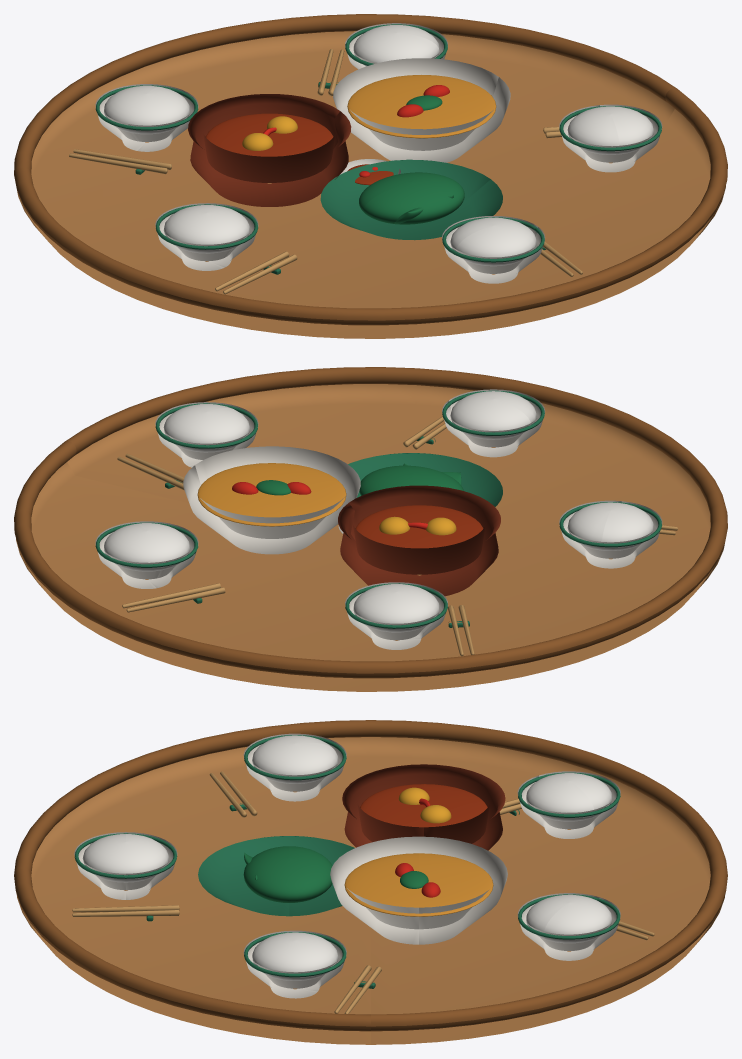
File: onboarding-mam-com.glb
The picture shows the model from 3 angles, top to bottom: view 1: azimuth 30°, elevation 25°; view 2: azimuth 150°, elevation 25°; view 3: azimuth 270°, elevation 25°; orthographic projection.
Parts seen in each view (by area): view 1: MamCom_Tray, Dish_Claypot, Dish_Soup, Dish_StirFry, Place_4, Place_5, Place_1, Place_2, Place_3, Dish_Dip; view 2: MamCom_Tray, Dish_Soup, Dish_Claypot, Place_3, Place_4, Place_1, Place_2, Place_5, Dish_StirFry; view 3: MamCom_Tray, Dish_Soup, Dish_Claypot, Dish_StirFry, Place_1, Place_2, Place_5, Place_3, Place_4.
Part boxes in pixels (x1,y1,x2,y2): MamCom_Tray: (14,14,727,338); Dish_Claypot: (188,94,351,206); Dish_Soup: (333,58,510,162); Dish_StirFry: (320,159,502,240); Place_4: (69,84,198,174); Place_5: (155,203,297,294); Place_1: (442,216,582,283); Place_2: (543,104,662,172); Place_3: (317,23,447,96); Dish_Dip: (340,159,400,185); MamCom_Tray: (14,367,727,691); Dish_Soup: (183,446,360,554); Dish_Claypot: (338,485,500,596); Place_3: (95,521,225,612); Place_4: (345,582,474,656); Place_1: (403,389,545,457); Place_2: (117,402,258,490); Place_5: (559,500,677,568); Dish_StirFry: (348,453,502,506); MamCom_Tray: (14,720,727,1044); Dish_Soup: (330,836,507,944); Dish_Claypot: (342,764,505,850); Dish_StirFry: (198,836,354,916); Place_1: (72,832,179,921); Place_2: (243,930,381,1013); Place_5: (209,733,346,817); Place_3: (517,893,654,960); Place_4: (499,771,620,838).
Size of the model in its own units: 2.97 by 0.305 by 2.97.
